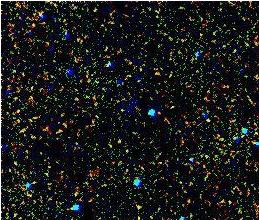star: (123, 184, 153, 214)
